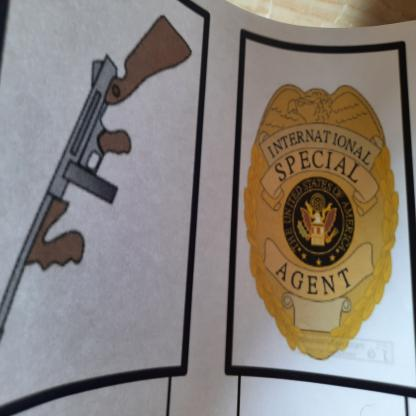Bootlegger: (3, 8, 195, 359)
G-man: (241, 75, 406, 376)
